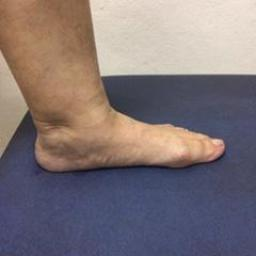Medial View -Left Foot-: (8, 77, 230, 183)
